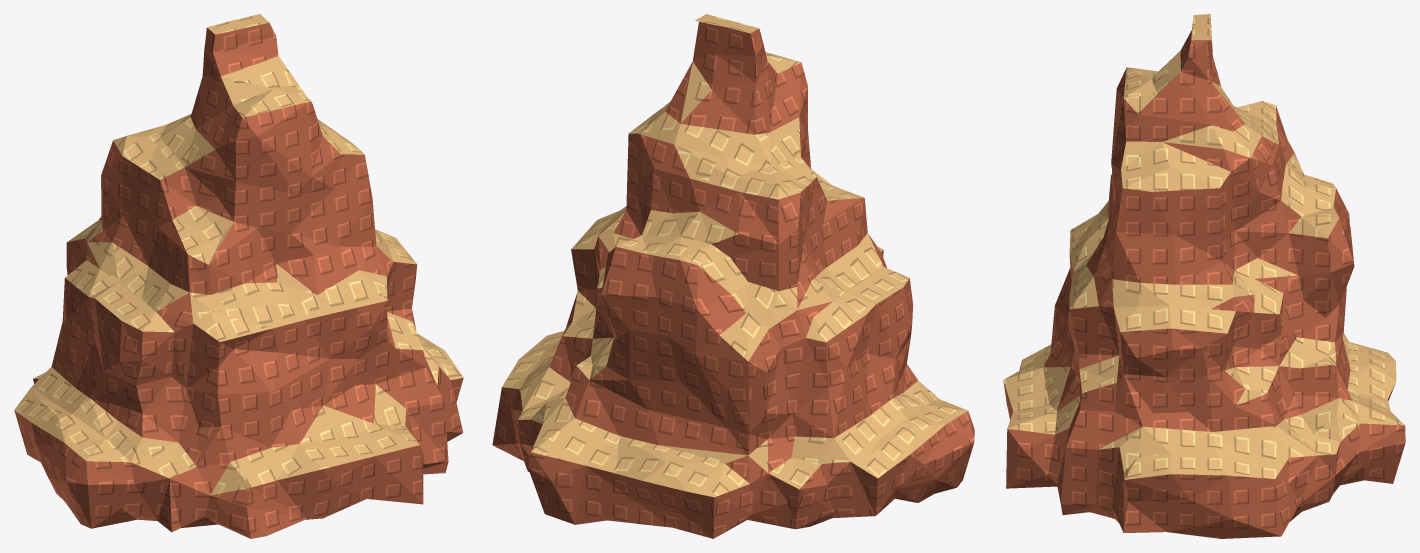
File: DesertStack.glb
3 renders of one model, left to right at view 1: azimuth 30°, elevation 25°; view 2: azimuth 150°, elevation 25°; view 3: azimuth 270°, elevation 25°, orthographic. The views are drawn at different scales.
Visible parts, largest first — view 1: DesertStack_Rock, DesertStack_Top; view 2: DesertStack_Rock, DesertStack_Top; view 3: DesertStack_Rock, DesertStack_Top.
Boxes of the visible parts, left/top/right/bottom form: DesertStack_Rock: left=14, top=22, right=463, bottom=538; DesertStack_Top: left=14, top=14, right=463, bottom=495; DesertStack_Rock: left=492, top=22, right=974, bottom=538; DesertStack_Top: left=502, top=14, right=967, bottom=497; DesertStack_Rock: left=1003, top=18, right=1405, bottom=538; DesertStack_Top: left=1003, top=14, right=1404, bottom=479.
Size of the model in its own units: 16.79 by 17.7 by 14.87.
2 materials, 2 textured.
